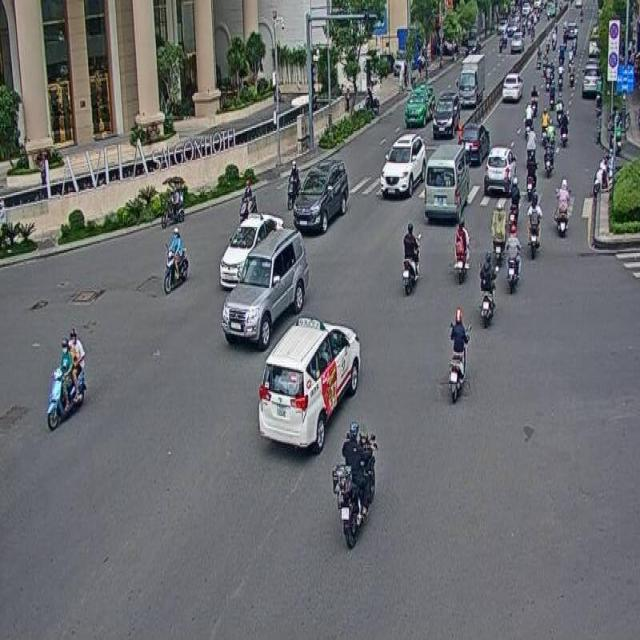car: (256, 316, 361, 456), (220, 226, 309, 350), (293, 157, 349, 236), (381, 133, 424, 198), (484, 144, 516, 197)
motorcycle: (334, 418, 376, 550), (44, 325, 86, 428), (445, 306, 471, 402), (477, 250, 499, 329), (163, 221, 185, 294), (401, 221, 419, 296), (504, 222, 522, 292), (454, 213, 471, 282), (526, 192, 542, 261), (554, 175, 568, 236)
truck: (425, 143, 469, 221)
